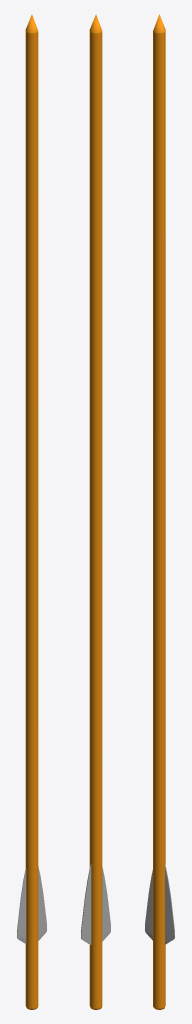
File: arrow.obj
The picture shows the model from 3 angles, left to right: view 1: azimuth 30°, elevation 25°; view 2: azimuth 210°, elevation 25°; view 3: azimuth 330°, elevation 25°; orthographic projection.
Parts seen in each view (by area): view 1: arrow; view 2: arrow; view 3: arrow.
Part boxes in pixels (box(x1,y1,x2,y2)): arrow: box(17, 14, 46, 1009); arrow: box(81, 14, 110, 1009); arrow: box(145, 14, 174, 1009).
Size of the model in its own units: 0.0357 by 1.14 by 0.0137.
Materials: 1 (1 with a texture image).
